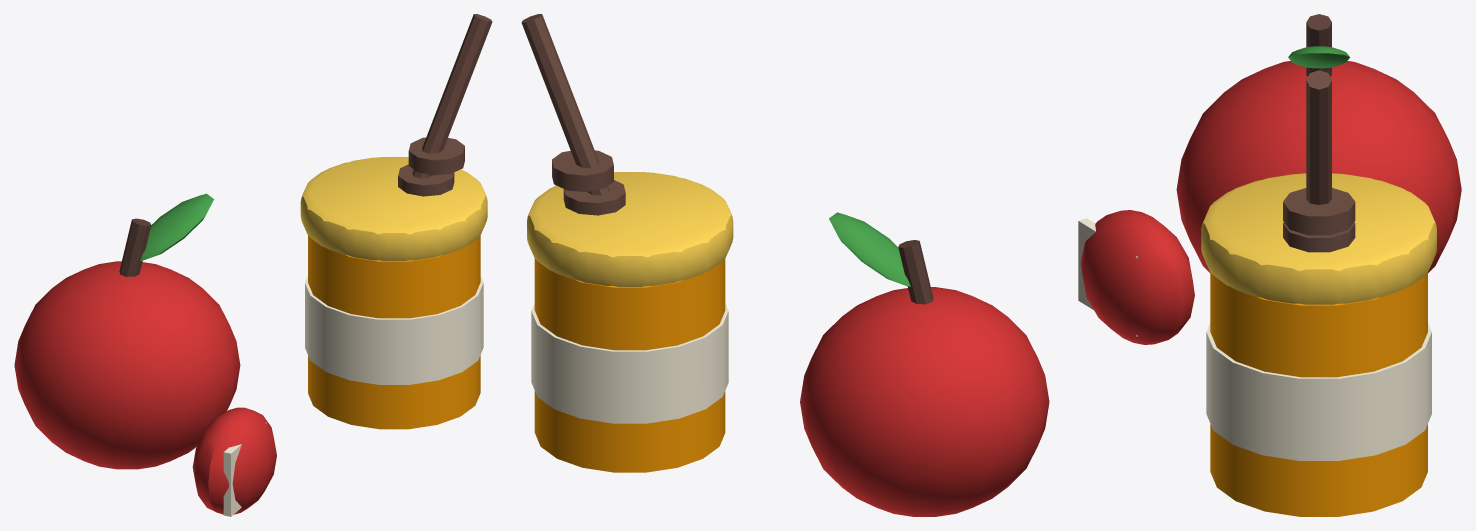
File: meta_honey.glb
3 renders of one model, left to right at view 1: azimuth 30°, elevation 25°; view 2: azimuth 150°, elevation 25°; view 3: azimuth 270°, elevation 25°, orthographic. The views are drawn at different scales.
Parts seen in each view (by area): view 1: MetaHoney_body; view 2: MetaHoney_body; view 3: MetaHoney_body.
Part boxes in pixels (<box>): MetaHoney_body: <box>14,14,492,516</box>; MetaHoney_body: <box>521,14,1049,516</box>; MetaHoney_body: <box>1078,14,1461,516</box>.
Bounding box in the file's own units: 0.2587 × 0.196 × 0.1479.
